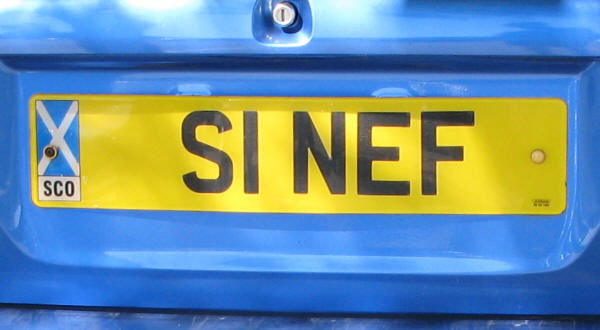license_plate: (29, 93, 569, 215)
